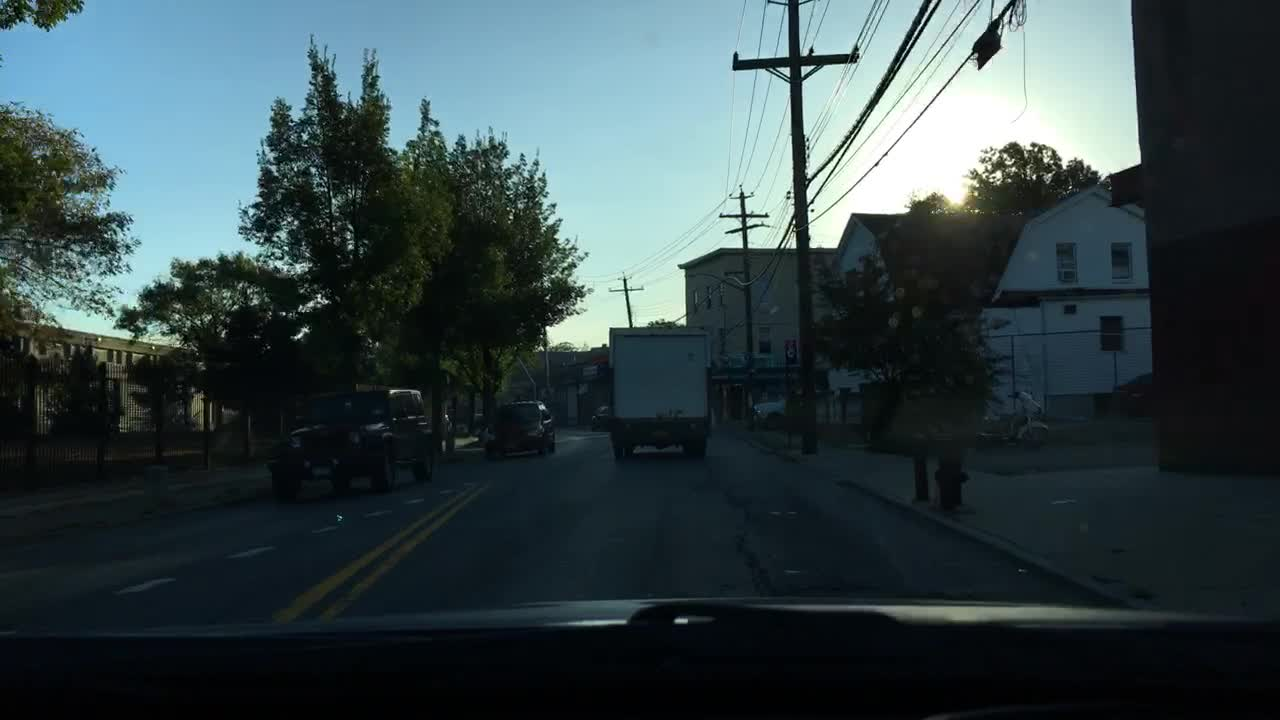car: (266, 381, 436, 503), (472, 398, 558, 459), (1099, 370, 1155, 415), (750, 398, 792, 428), (588, 405, 609, 433)
motor: (969, 390, 1048, 450)
person: (439, 405, 458, 455)
traffic sign: (784, 338, 798, 362), (580, 365, 599, 377), (741, 349, 753, 360)
truck: (605, 323, 711, 462)
